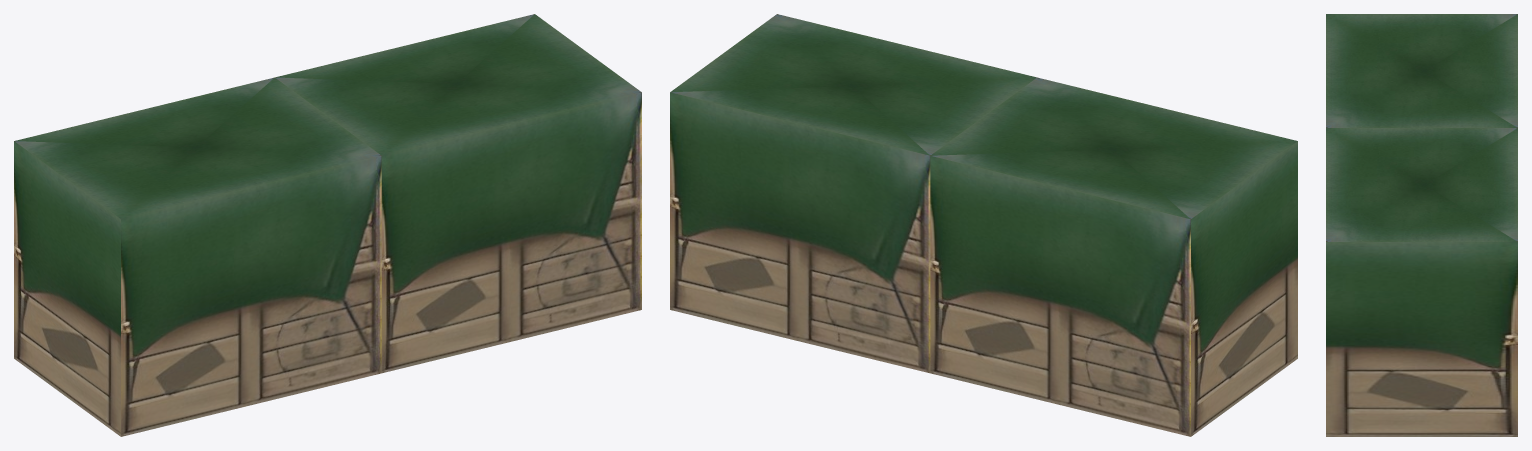
The model's file is crateswithtarp_hdtex.glb.
3 renders of one model, left to right at view 1: azimuth 30°, elevation 25°; view 2: azimuth 150°, elevation 25°; view 3: azimuth 270°, elevation 25°, orthographic. The views are drawn at different scales.
Visible parts, largest first — view 1: crateswithtarps01; view 2: crateswithtarps01; view 3: crateswithtarps01.
Part boxes in pixels (x1,y1,x2,y2): crateswithtarps01: [14, 14, 641, 436]; crateswithtarps01: [670, 14, 1297, 436]; crateswithtarps01: [1326, 14, 1517, 436].
Size of the model in its own units: 8.5 by 3.39 by 3.02.
1 material, 1 textured.
